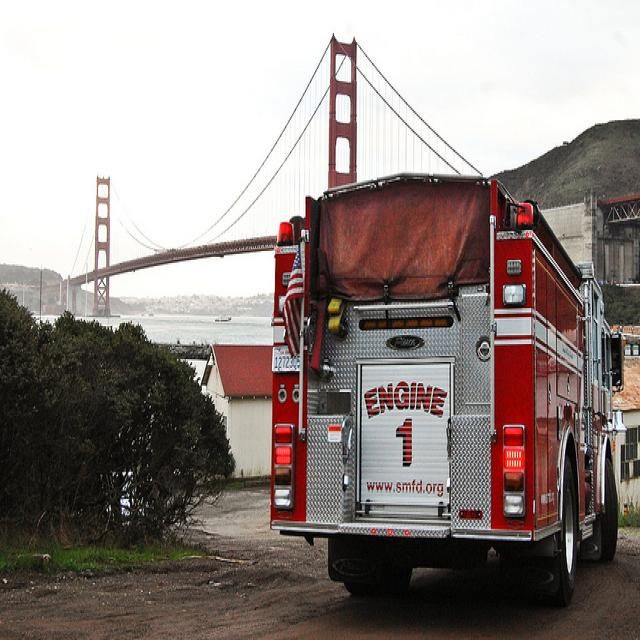Vehicle: (267, 177, 624, 608)
